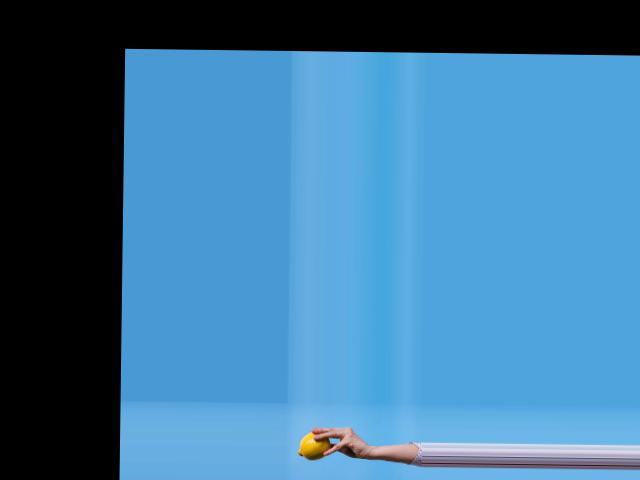lemon: (295, 410, 342, 462)
